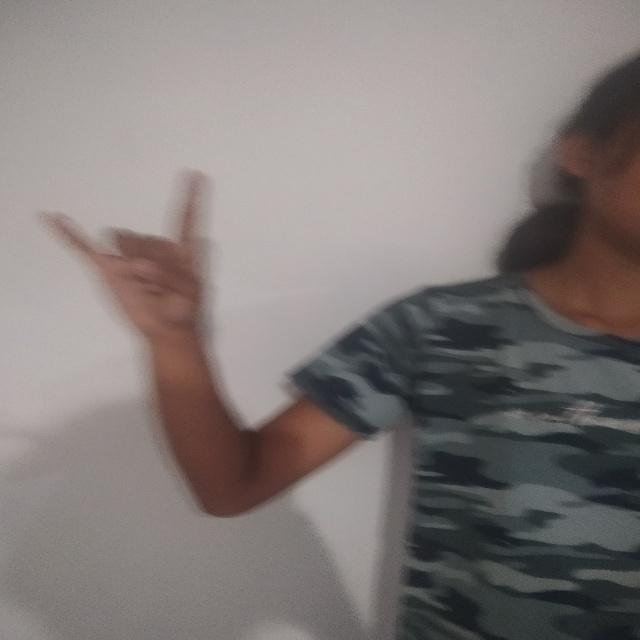Corna: (46, 161, 236, 360)
